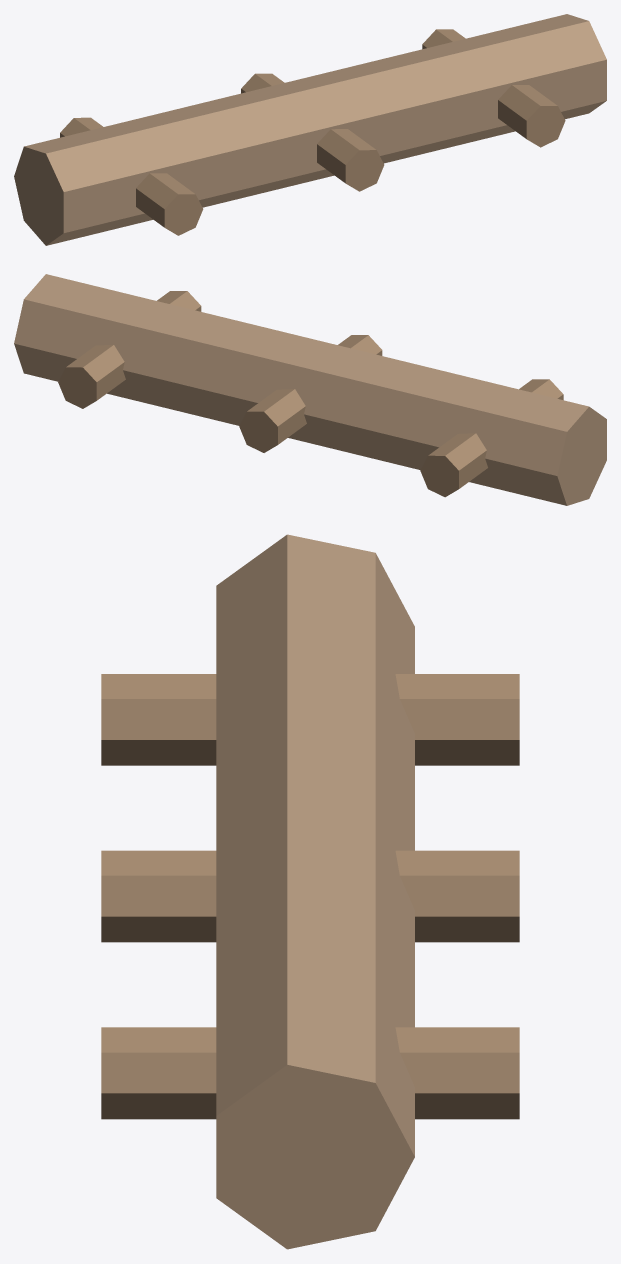
Rendered from branch_platform.glb.
3 views of the same model, one above another, from view 1: azimuth 30°, elevation 25°; view 2: azimuth 150°, elevation 25°; view 3: azimuth 270°, elevation 25° (orthographic). The views are drawn at different scales.
Parts seen in each view (by area): view 1: CrossBranch, Rail_2, Rail_1, Rail_0; view 2: CrossBranch, Rail_0, Rail_1, Rail_2; view 3: CrossBranch, Rail_1, Rail_2, Rail_0.
Part boxes in pixels (x1,y1,x2,y2): CrossBranch: [14, 14, 606, 245]; Rail_2: [422, 29, 565, 147]; Rail_1: [241, 73, 384, 191]; Rail_0: [60, 117, 203, 235]; CrossBranch: [14, 274, 606, 505]; Rail_0: [420, 379, 563, 497]; Rail_1: [239, 335, 382, 452]; Rail_2: [58, 291, 201, 408]; CrossBranch: [216, 534, 414, 1249]; Rail_1: [101, 850, 519, 942]; Rail_2: [101, 1027, 519, 1119]; Rail_0: [101, 674, 519, 765].
Bounding box in the file's own units: 2.4 × 0.39 × 0.8.
